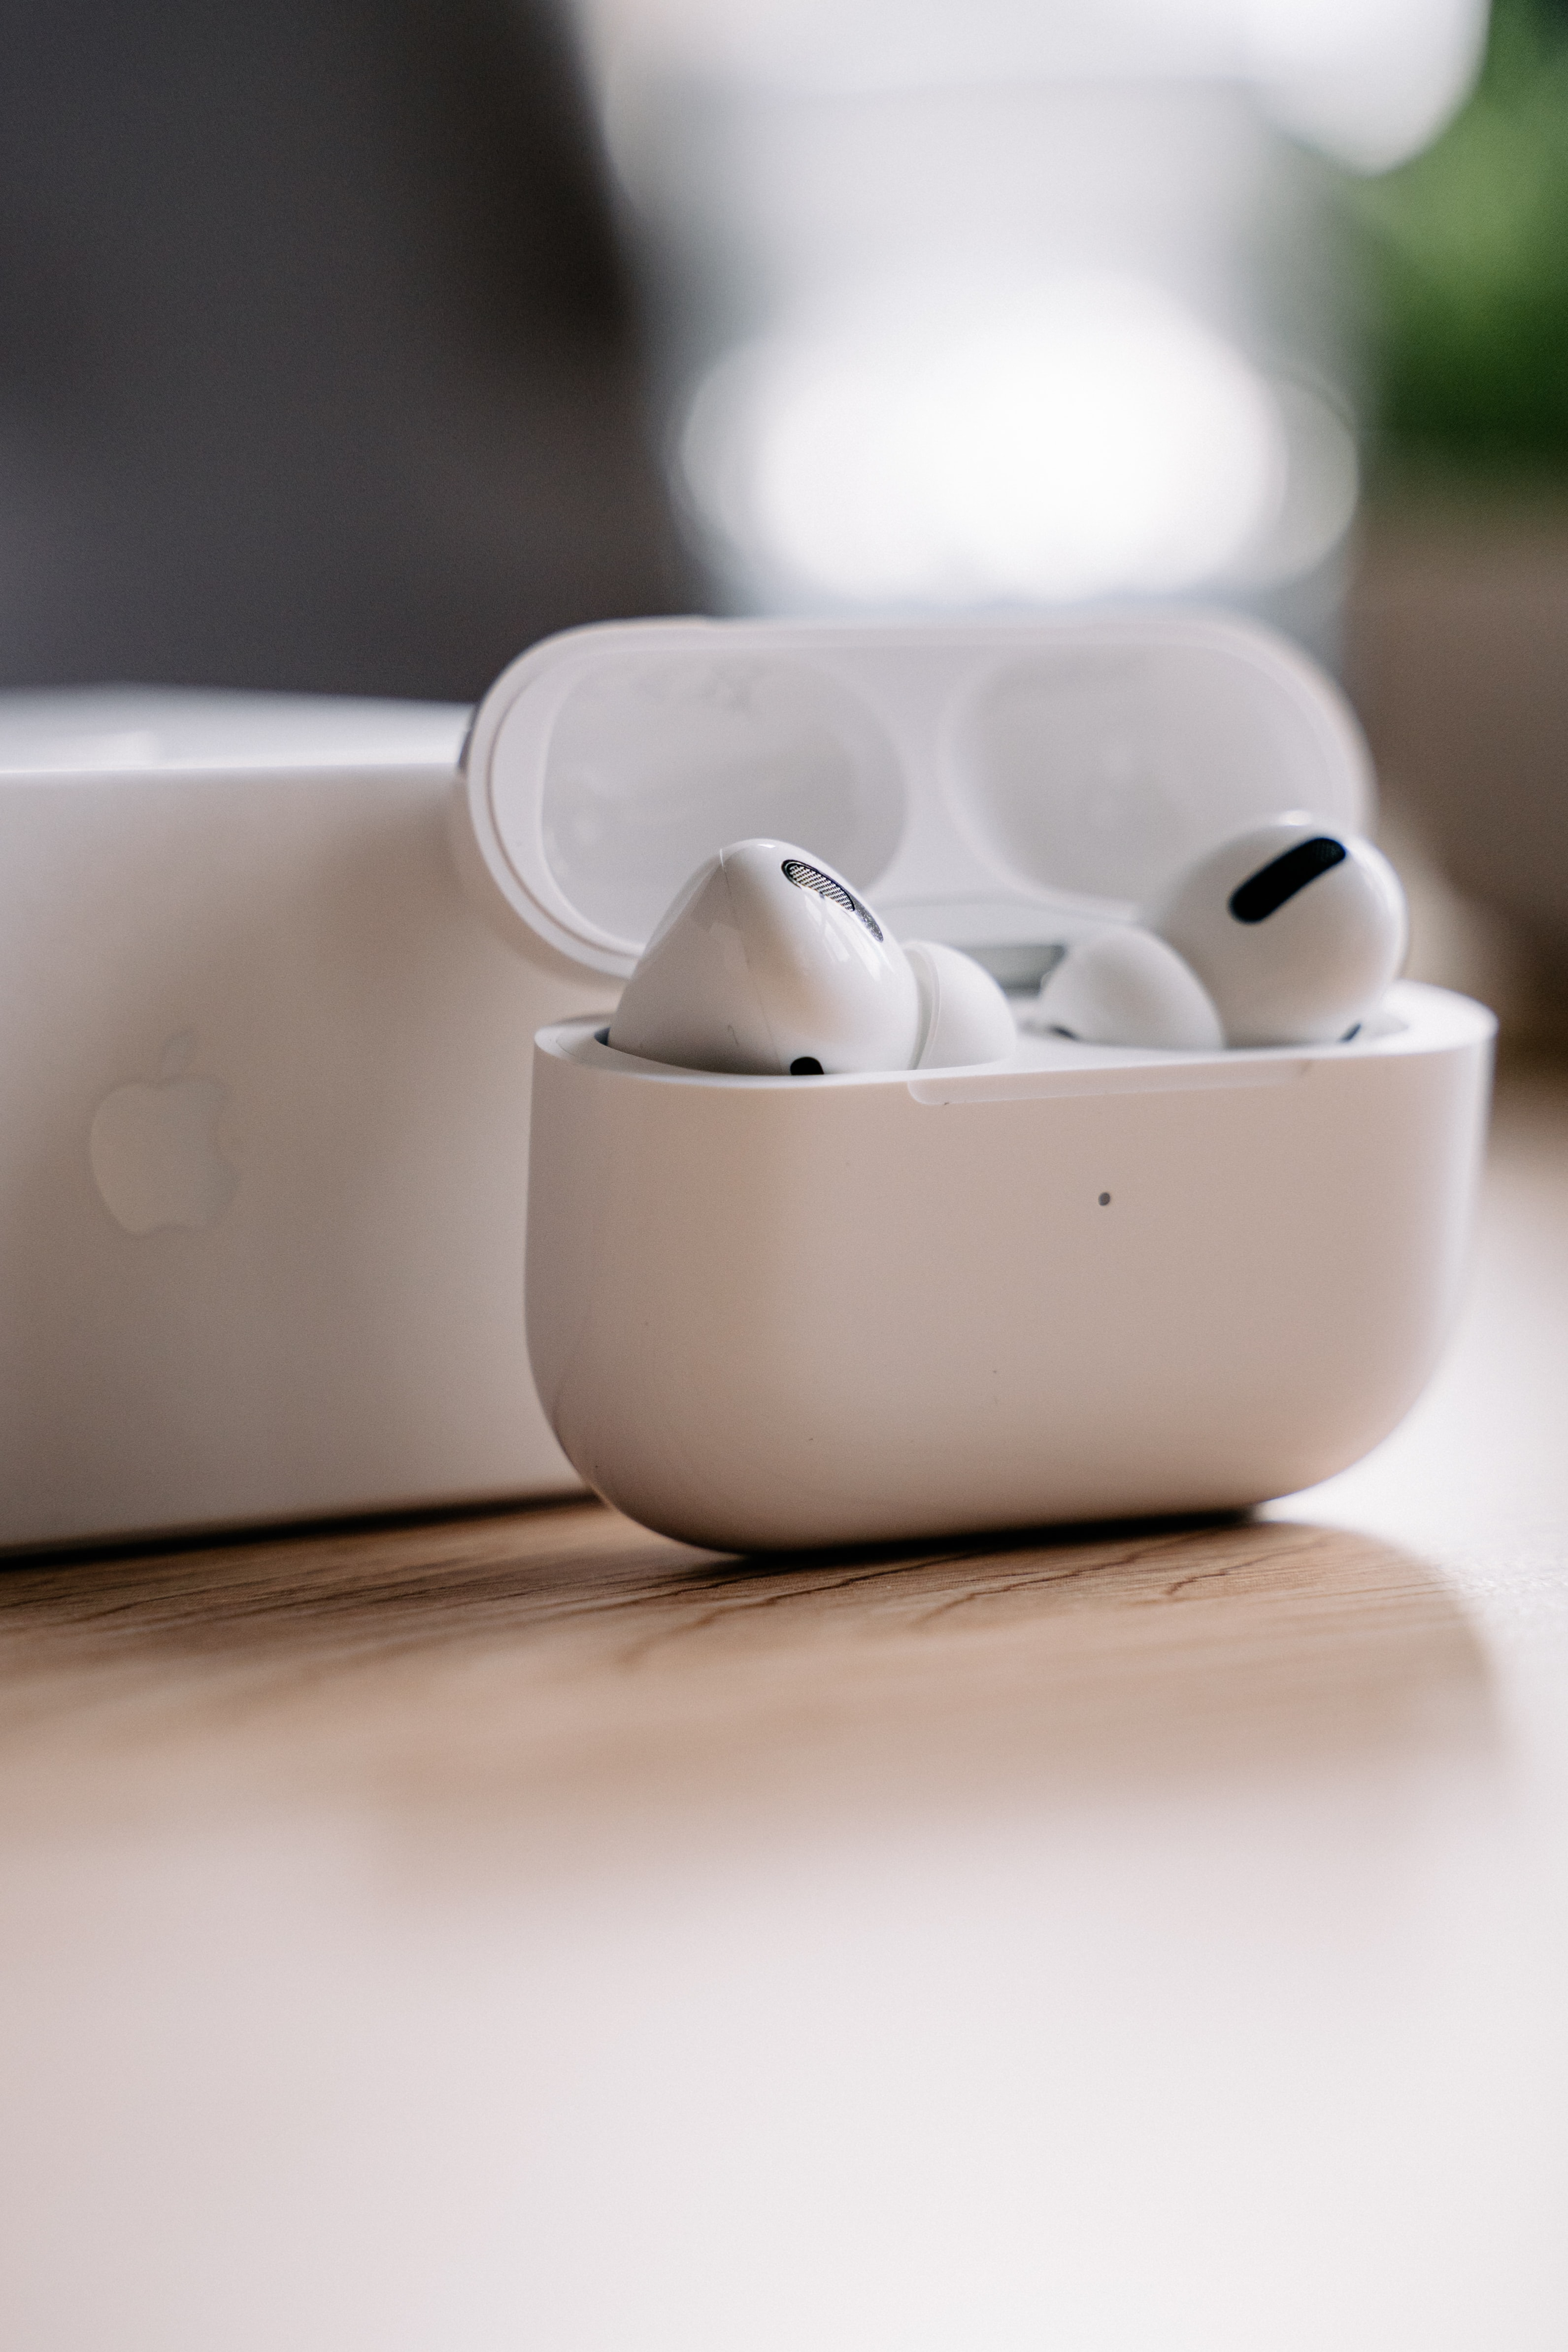airpods: (458, 611, 1503, 1563)
